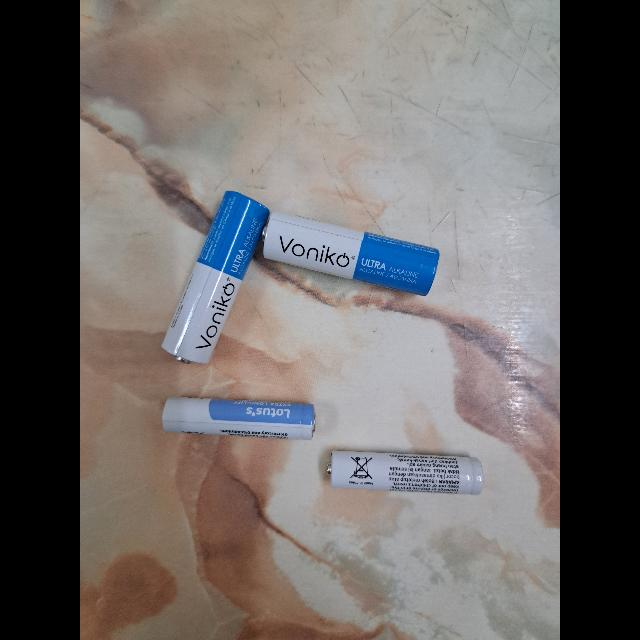bateria: (159, 192, 271, 366), (262, 208, 440, 296), (325, 448, 485, 496), (162, 395, 318, 441)
